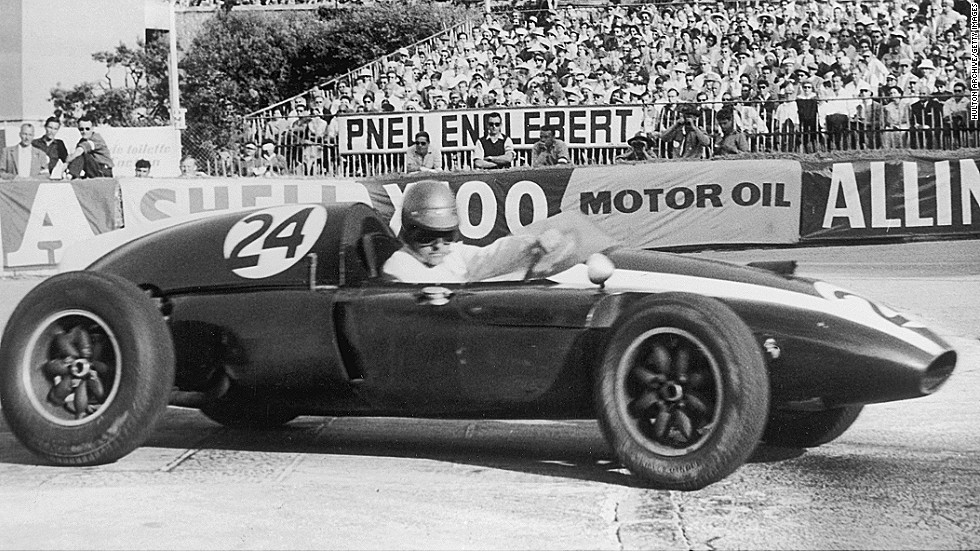f1_car: (2, 171, 969, 502)
